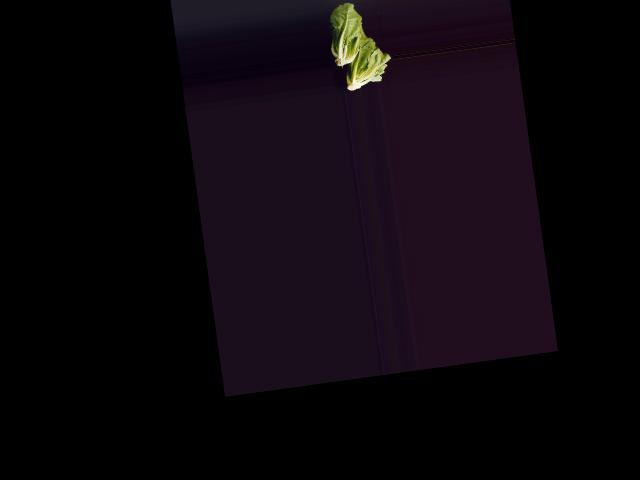lettuce: (332, 24, 393, 92)
